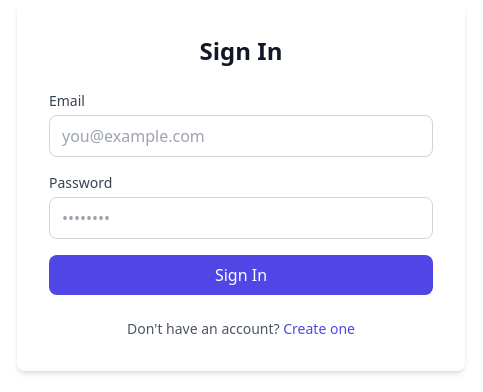
it: Login Page › disables submit button while loading
Step 1. Type "test@example.com" into the field labelled "Email" → (241, 136), box [49,115,433,157]
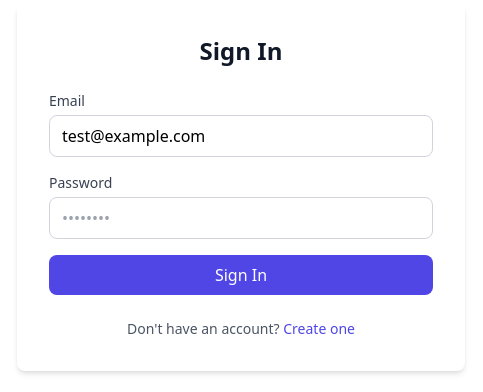
Step 2. Type "password" into the password field labelled "Password" → (241, 218), box [49,197,433,239]
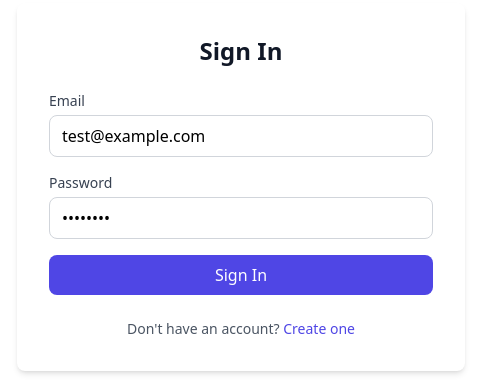
Step 3. Submit the form, box [49,91,433,295]
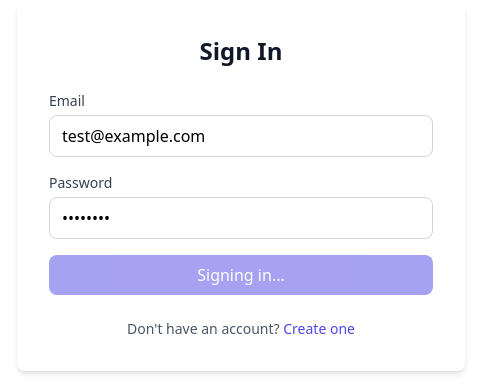
Now the submit button is disabled, box [49,255,433,295]
Now the submit button reads "Signing in...", box [49,255,433,295]
